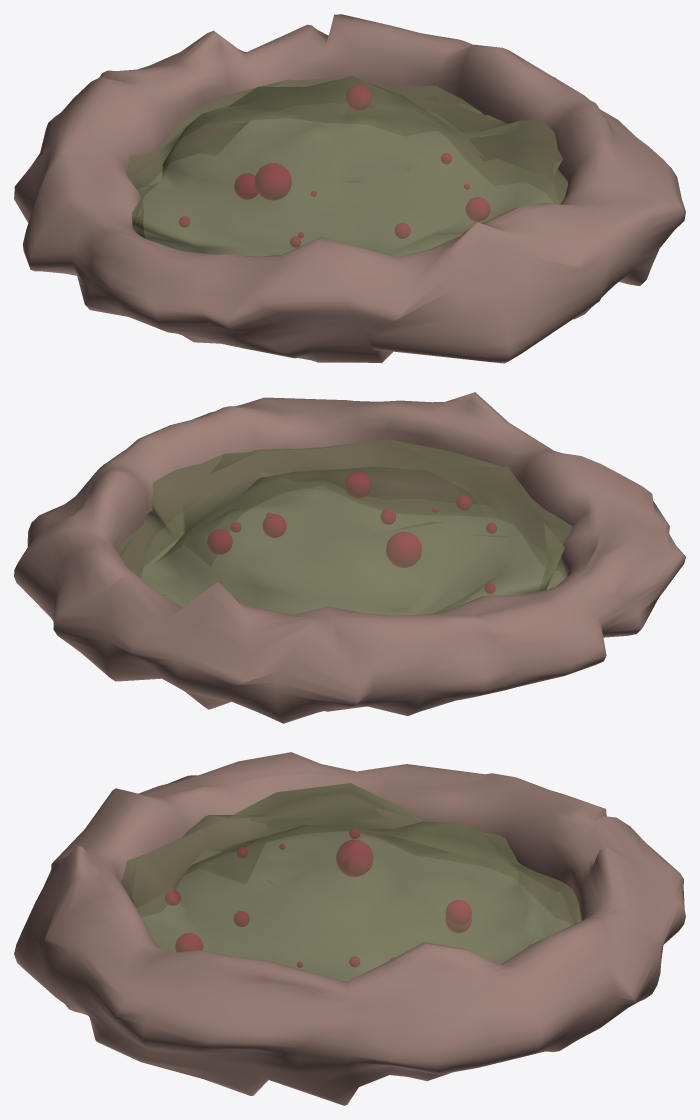
Rendered from Bacteria_base_body.fbx.
3 views of the same model, one above another, from view 1: azimuth 30°, elevation 25°; view 2: azimuth 150°, elevation 25°; view 3: azimuth 270°, elevation 25° (orthographic). The views are drawn at different scales.
Parts seen in each view (by area): view 1: Cell_Wall, Main_Body, pSphere11, pSphere8; view 2: Cell_Wall, Main_Body, pSphere11, pSphere3, pSphere8; view 3: Cell_Wall, Main_Body, pSphere11, pSphere8.
Boxes of the visible parts, box(x1,y1,x2,y2) form: Cell_Wall: box(14, 14, 685, 363); Main_Body: box(127, 75, 568, 257); pSphere11: box(255, 163, 291, 199); pSphere8: box(346, 85, 371, 110); Cell_Wall: box(14, 392, 685, 723); Main_Body: box(116, 439, 572, 615); pSphere11: box(386, 532, 421, 567); pSphere3: box(345, 471, 371, 497); pSphere8: box(207, 529, 232, 554); Cell_Wall: box(14, 752, 685, 1105); Main_Body: box(120, 783, 581, 981); pSphere11: box(336, 840, 372, 876); pSphere8: box(446, 900, 471, 925).
Size of the model in its own units: 28.46 by 7.61 by 28.92.
